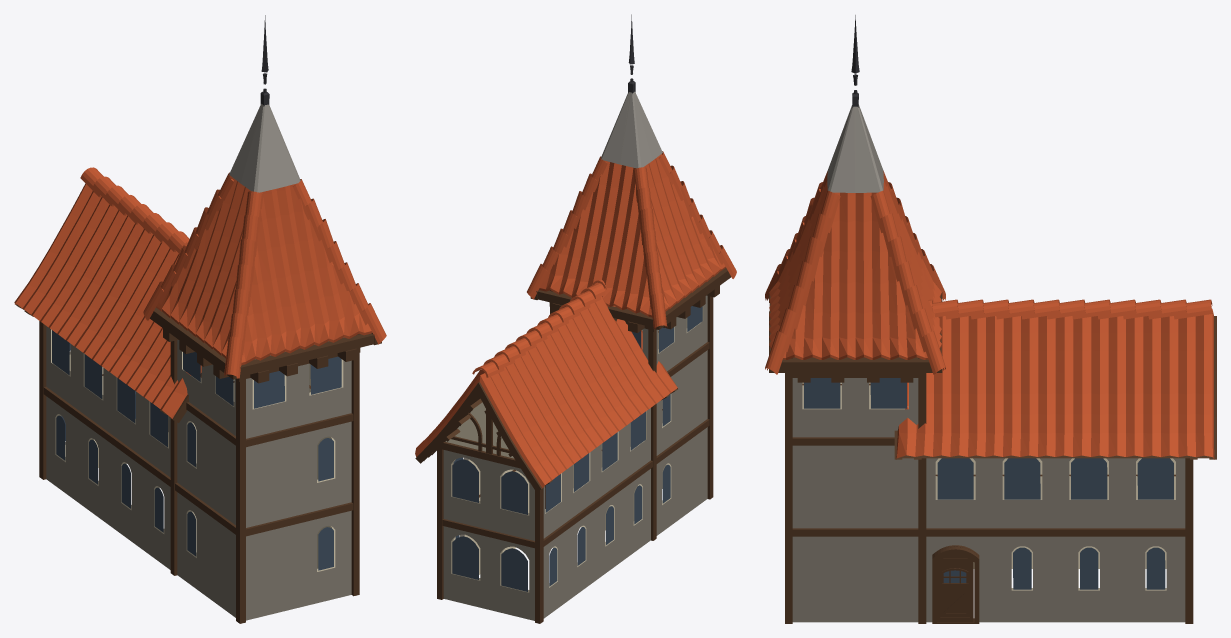
The model's file is chapel.obj.
The picture shows the model from 3 angles, left to right: view 1: azimuth 30°, elevation 25°; view 2: azimuth 150°, elevation 25°; view 3: azimuth 270°, elevation 25°; orthographic projection. The views are drawn at different scales.
Size of the model in its own units: 5.65 by 19.19 by 13.54.
